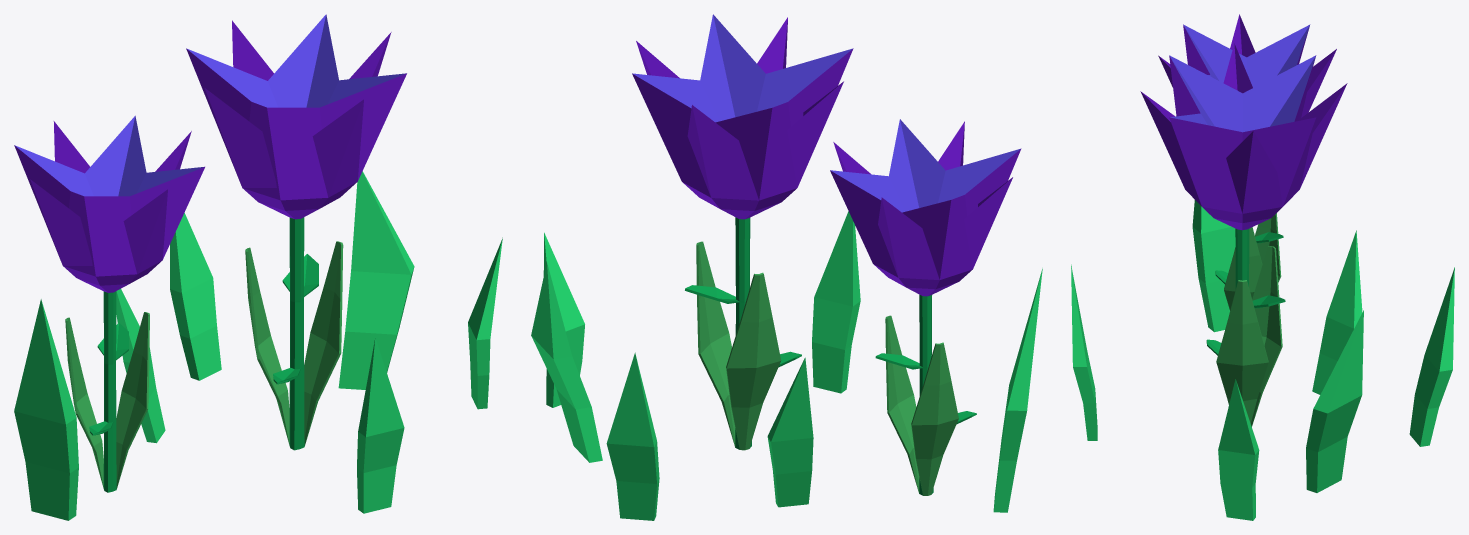
File: Plant009.fbx
3 views of the same model, side by side, from view 1: azimuth 30°, elevation 25°; view 2: azimuth 150°, elevation 25°; view 3: azimuth 270°, elevation 25° (orthographic). The views are drawn at different scales.
Parts seen in each view (by area): view 1: Plant007.001; view 2: Plant007.001; view 3: Plant007.001.
Boxes of the visible parts, x1,y1,x2,y2 form: Plant007.001: [14, 14, 502, 520]; Plant007.001: [531, 14, 1042, 520]; Plant007.001: [1071, 14, 1454, 520].
Size of the model in its own units: 1.3 by 0.9882 by 0.9796.
